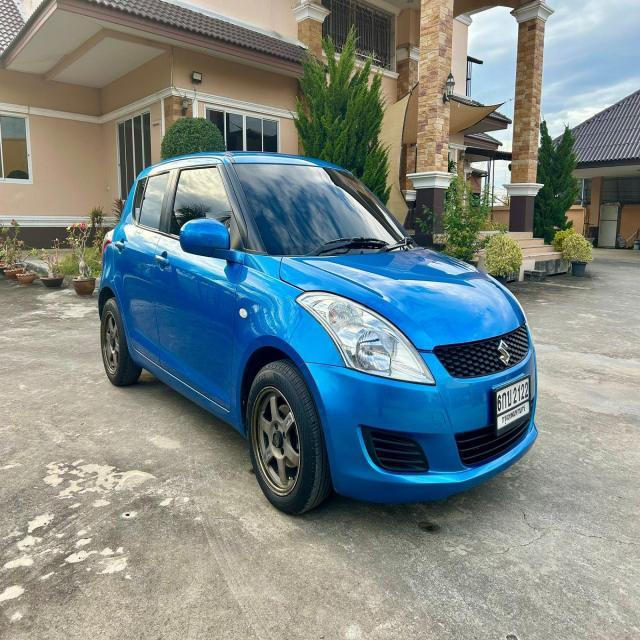Hatchback: (98, 151, 538, 514)
